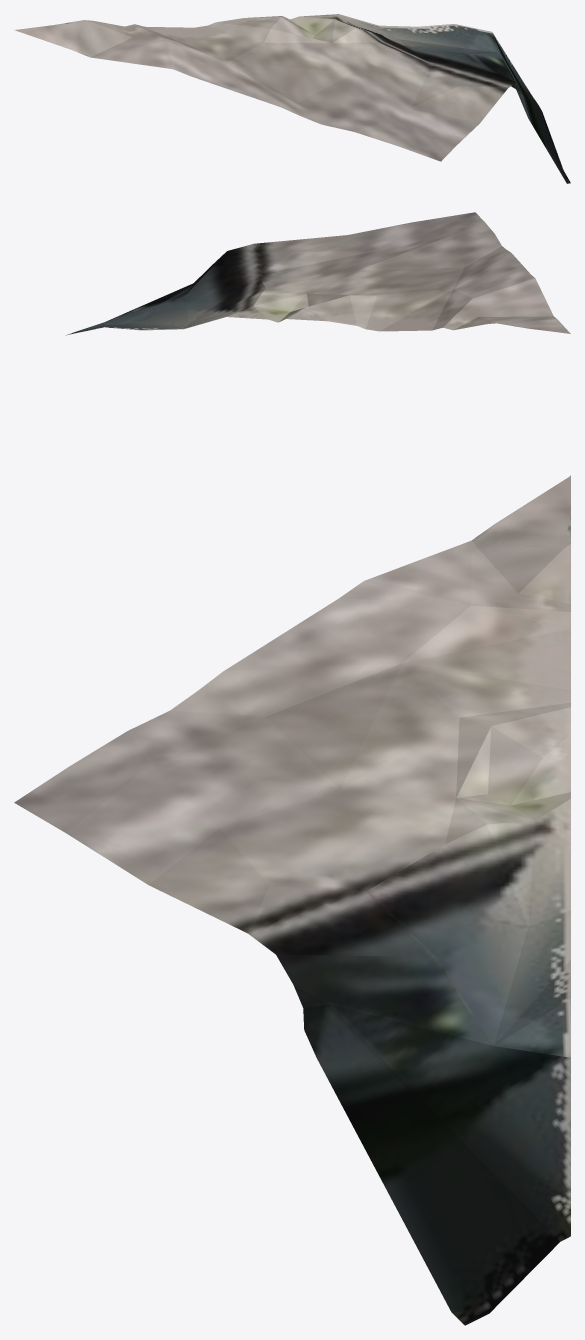
3 views of the same model, one above another, from view 1: azimuth 30°, elevation 25°; view 2: azimuth 150°, elevation 25°; view 3: azimuth 270°, elevation 25° (orthographic). The views are drawn at different scales.
Bounding box in the file's own units: 3.04 × 1.43 × 1.69.
Materials: 1 (1 with a texture image).
